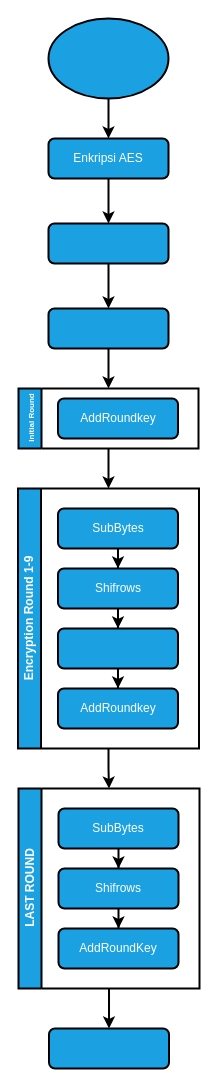
This 218x1086 diagram has some shape labels left out. Each missing label, with the centre of its shape:
"Cipher Text" belongs at (x=109, y=1048).
"Input Cipher Key" belongs at (x=108, y=243).
"Input Plain Text" belongs at (x=108, y=328).
"Main Menu" belongs at (x=108, y=58).
"MixColumn" belongs at (x=117, y=648).
